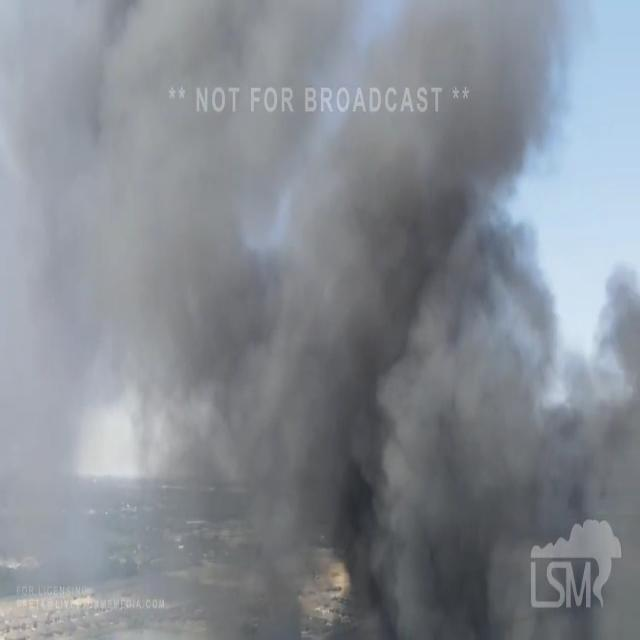Smoke: (245, 122, 640, 609)
